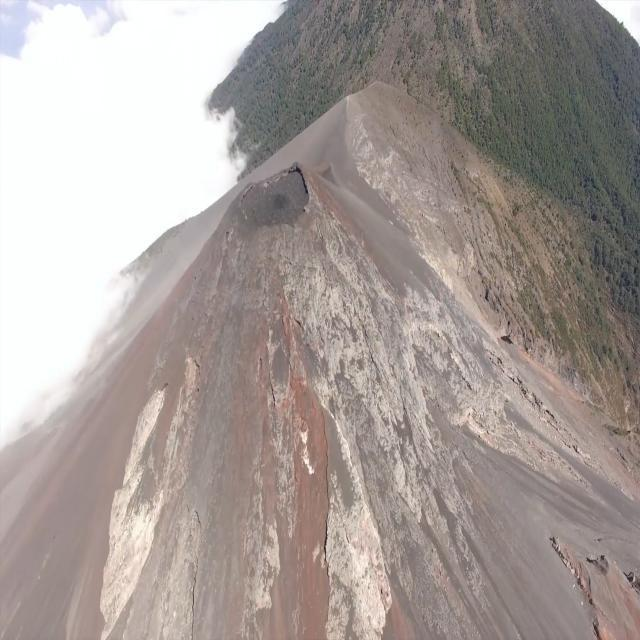Summit: (221, 150, 345, 314)
